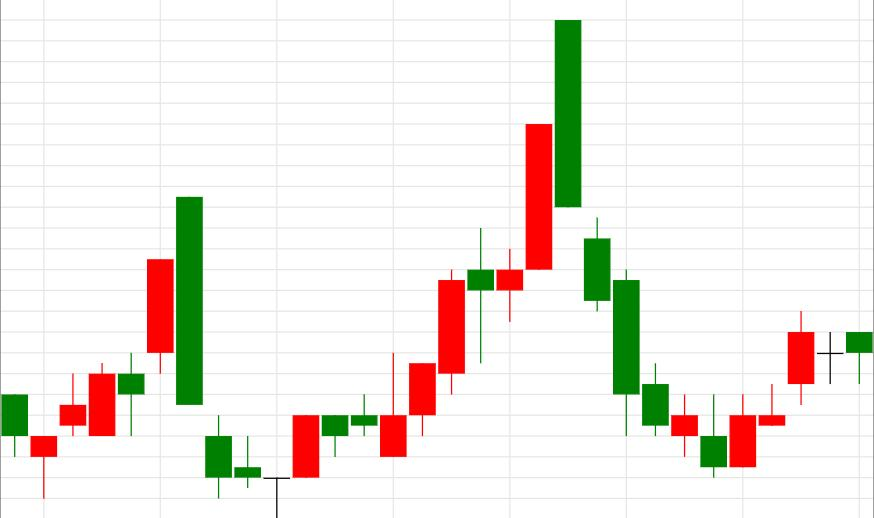bearish_engulfing_fall: (32, 197, 203, 498)
three_black_crows_fall: (380, 20, 640, 457)
